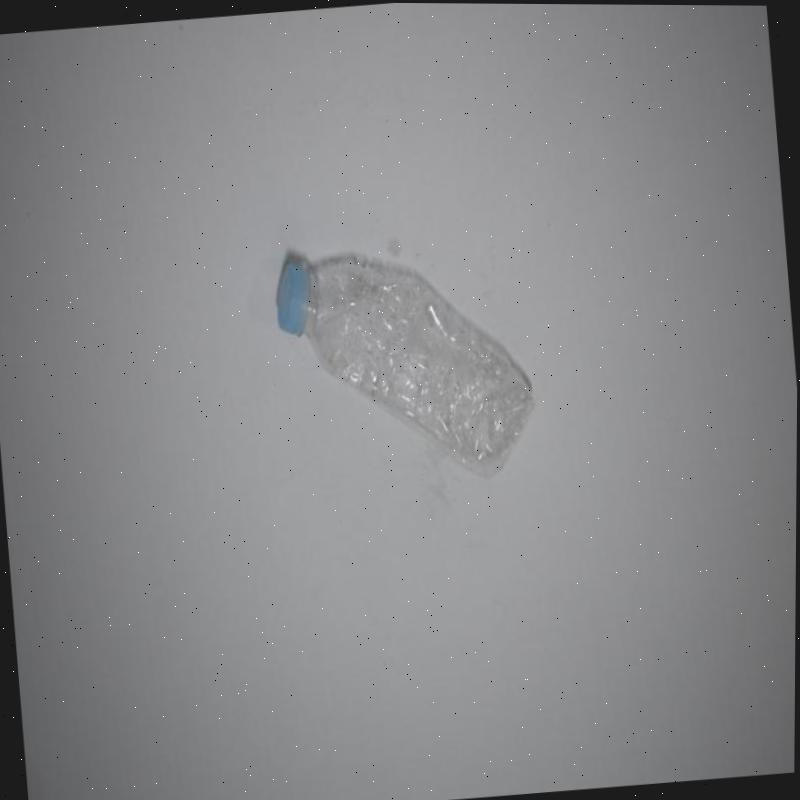botella: (268, 234, 540, 492)
